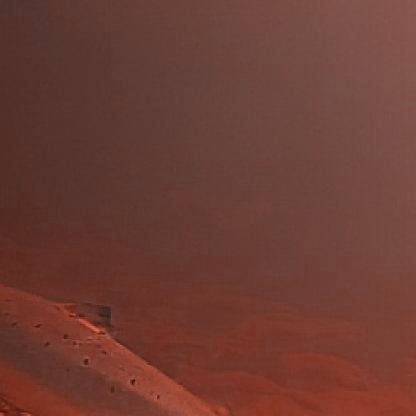salmon: (0, 283, 236, 414)
